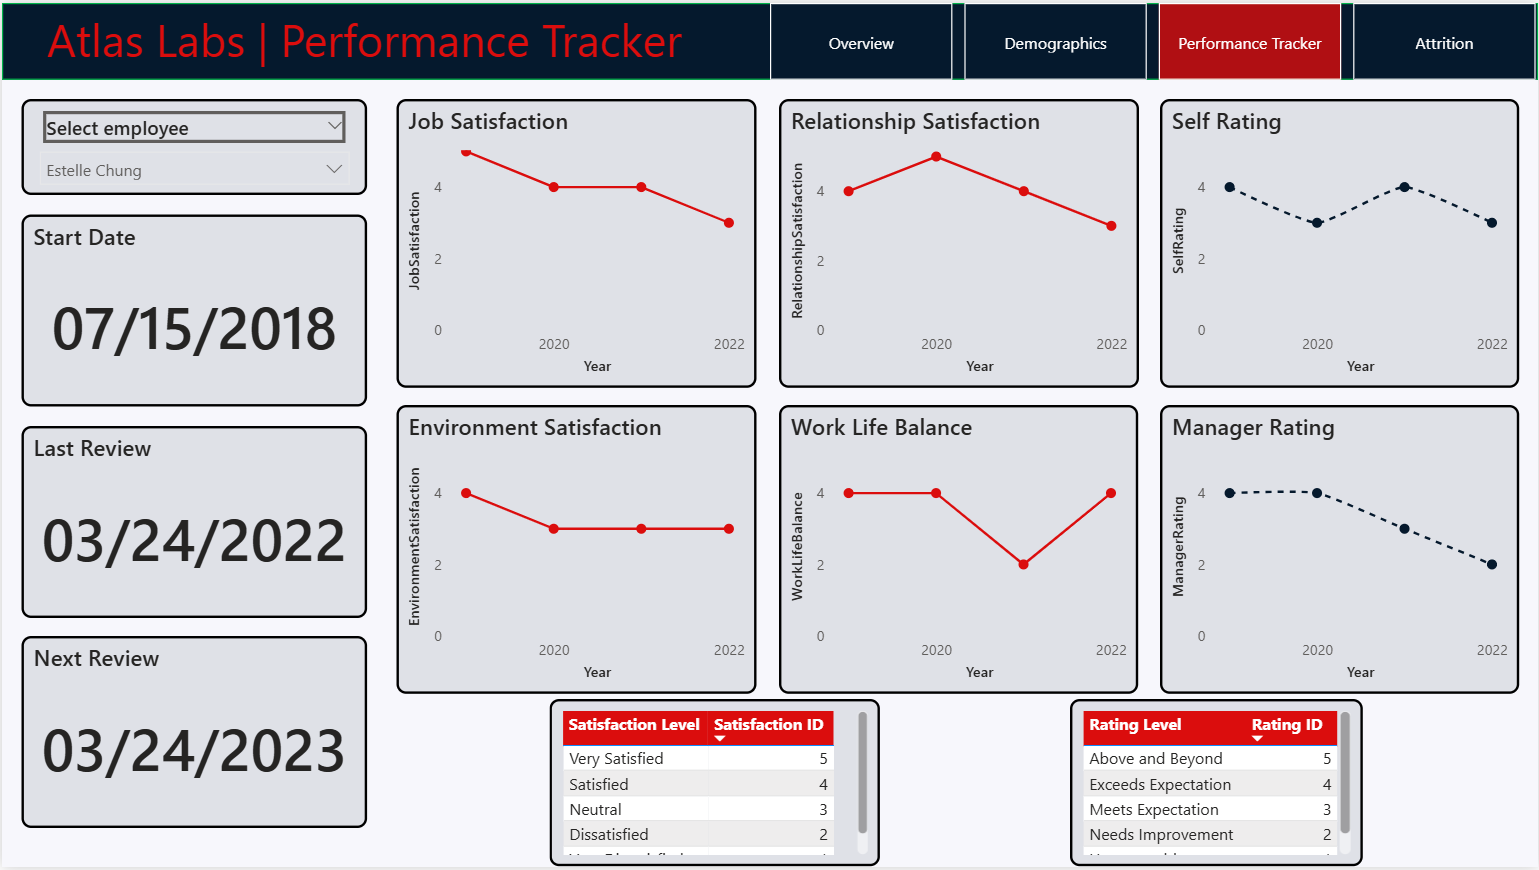

This screenshot's page, from the dashboard's own definition file:
{"tool":"powerbi","page":{"name":"Performance Tracker","canvas":[1280,720],"ordinal":2},"visuals":[{"type":"shape","box":[0,0,1280,64],"z":0},{"type":"textbox","box":[32,0,624,64],"z":1000},{"type":"pageNavigator","box":[640,0,640,64],"z":2000},{"type":"slicer","fields":{"Values":["DimEmployee.FullName"]},"box":[16,80,288,80],"z":3000},{"type":"card","title":"Start Date","fields":{"Values":["DimEmployee.HireDate"]},"box":[16,176,288,160],"z":4000},{"type":"card","title":"Last Review","fields":{"Values":["_Measures.LastReviewDate"]},"box":[16,352,288,160],"z":5000},{"type":"card","title":"Next Review","fields":{"Values":["_Measures.NextReviewDate"]},"box":[16,528,288,160],"z":6000},{"type":"lineChart","title":"Job Satisfaction","fields":{"Y":["_Measures.JobSatisfaction"],"Category":["DimDate.Year"]},"box":[328.3,79.8,300,240.3],"z":7000},{"type":"lineChart","title":"Relationship Satisfaction","fields":{"Y":["_Measures.RelationshipSatisfaction"],"Category":["DimDate.Year"]},"box":[646.9,79.8,300,240.3],"z":8000},{"type":"lineChart","title":"Self Rating","fields":{"Y":["_Measures.SelfRating"],"Category":["DimDate.Year"]},"box":[965.5,79.8,299.7,240.3],"z":9000},{"type":"lineChart","title":"Work Life Balance","fields":{"Y":["_Measures.WorkLifeBalance"],"Category":["DimDate.Year"]},"box":[647.4,335.5,299.7,240.3],"z":10000},{"type":"lineChart","title":"Manager Rating","fields":{"Y":["_Measures.ManagerRating"],"Category":["DimDate.Year"]},"box":[965.5,335.5,299.7,240.3],"z":11000},{"type":"lineChart","title":"Environment Satisfaction","fields":{"Y":["_Measures.EnvironmentSatisfaction"],"Category":["DimDate.Year"]},"box":[328.3,335.5,300,240.3],"z":12000},{"type":"tableEx","fields":{"Values":["DimRatingLevel.RatingLevel","DimRatingLevel.RatingID"]},"box":[890.4,579.9,243.8,139.3],"z":13000},{"type":"tableEx","fields":{"Values":["DimSatisfiedLevel.SatisfactionLevel","DimSatisfiedLevel.SatisfactionID"]},"box":[455.8,579.9,275.6,139.3],"z":14000}]}

Visuals, with their boxes in screenshot pixels (x1, y1, x2, y2), scaled from the page's 1280x720 canvas onto the 1539x870 screenshot:
shape: locate(0, 0, 1538, 77)
textbox: locate(38, 0, 789, 77)
pageNavigator: locate(770, 0, 1538, 77)
slicer - DimEmployee.FullName: locate(19, 97, 366, 193)
"Start Date" card: locate(19, 213, 366, 406)
"Last Review" card: locate(19, 425, 366, 619)
"Next Review" card: locate(19, 638, 366, 831)
"Job Satisfaction" lineChart: locate(395, 96, 755, 387)
"Relationship Satisfaction" lineChart: locate(778, 96, 1138, 387)
"Self Rating" lineChart: locate(1161, 96, 1521, 387)
"Work Life Balance" lineChart: locate(778, 405, 1139, 696)
"Manager Rating" lineChart: locate(1161, 405, 1521, 696)
"Environment Satisfaction" lineChart: locate(395, 405, 755, 696)
tableEx - DimRatingLevel.RatingLevel x DimRatingLevel.RatingID: locate(1071, 701, 1364, 869)
tableEx - DimSatisfiedLevel.SatisfactionLevel x DimSatisfiedLevel.SatisfactionID: locate(548, 701, 879, 869)
